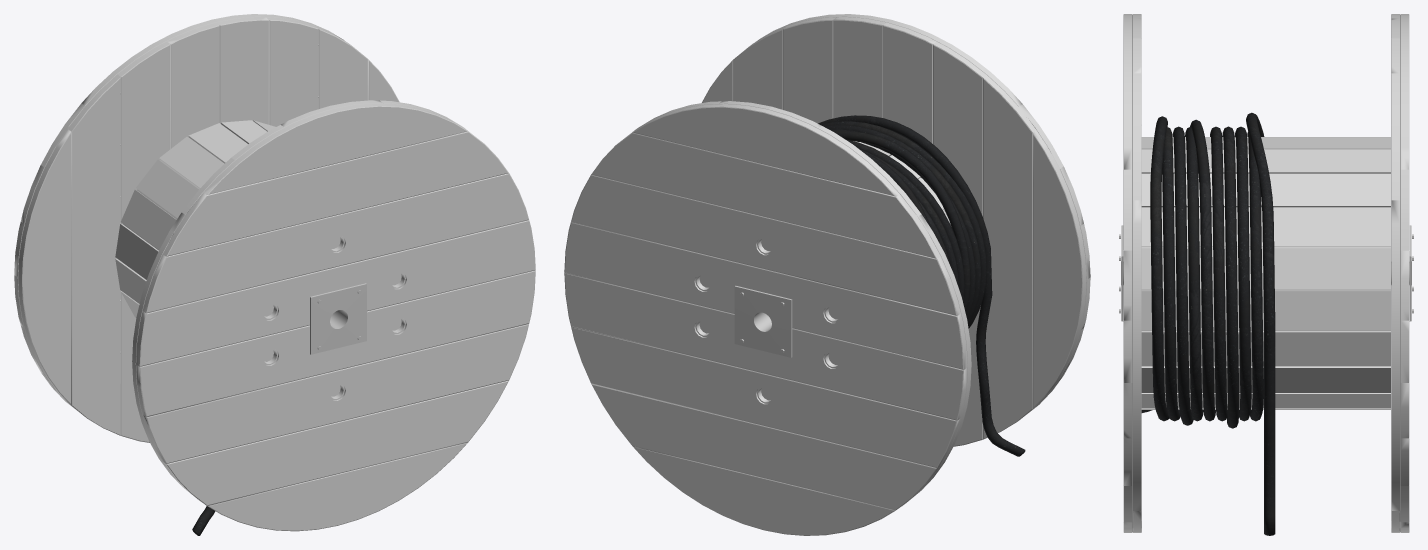
The model's file is KB3D_CTS_CableRoll_A.fbx.
3 views of the same model, side by side, from view 1: azimuth 30°, elevation 25°; view 2: azimuth 150°, elevation 25°; view 3: azimuth 270°, elevation 25° (orthographic). The views are drawn at different scales.
Visible parts, largest first — view 1: KB3D_CTS_CableRoll_A_Main; view 2: KB3D_CTS_CableRoll_A_Main; view 3: KB3D_CTS_CableRoll_A_Main.
Boxes of the visible parts, x1,y1,x2,y2 form: KB3D_CTS_CableRoll_A_Main: (14, 14, 535, 535); KB3D_CTS_CableRoll_A_Main: (564, 14, 1090, 535); KB3D_CTS_CableRoll_A_Main: (1119, 14, 1413, 535).
Size of the model in its own units: 134 by 134 by 76.19.
